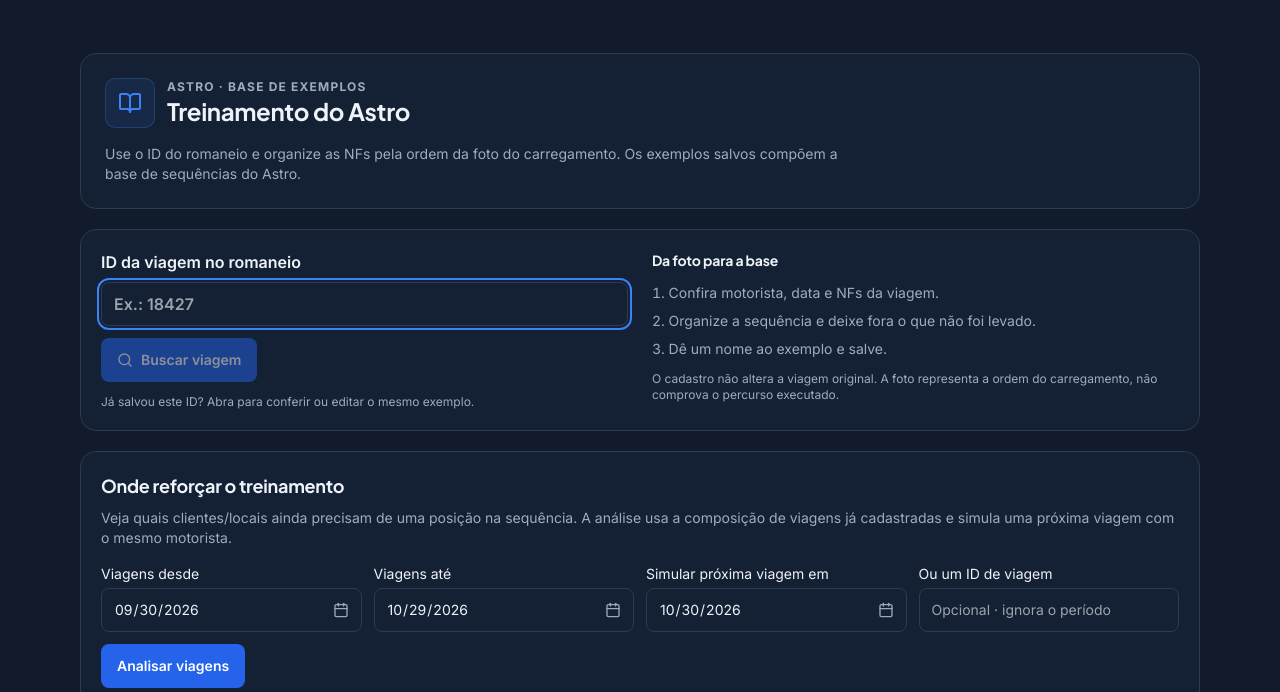
confere a sequência, mantém notas omitidas e exige confirmar a separação antes do PUT
The width and height of the screenshot is (1280, 692).
Type "128" into the field labelled "ID da viagem" at point(364, 304), box [101,282,628,326]
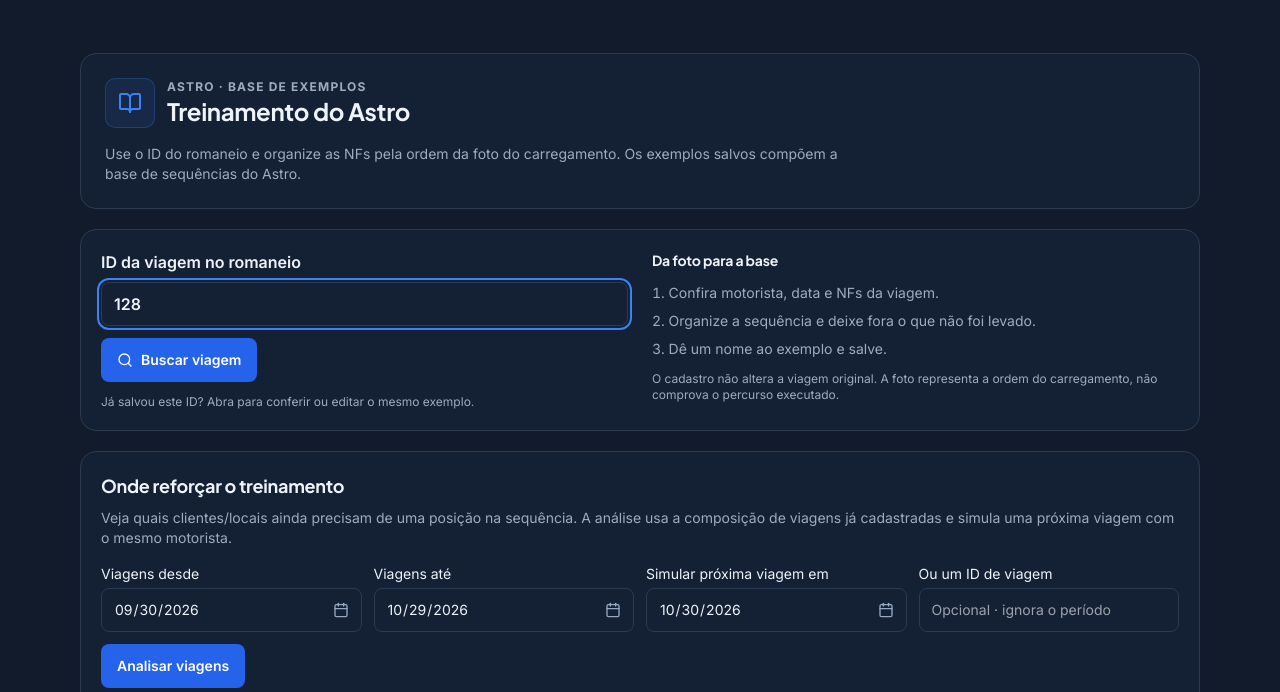
Click the button "Buscar viagem" at point(179, 360), box [101,338,258,382]
(page scrolled)
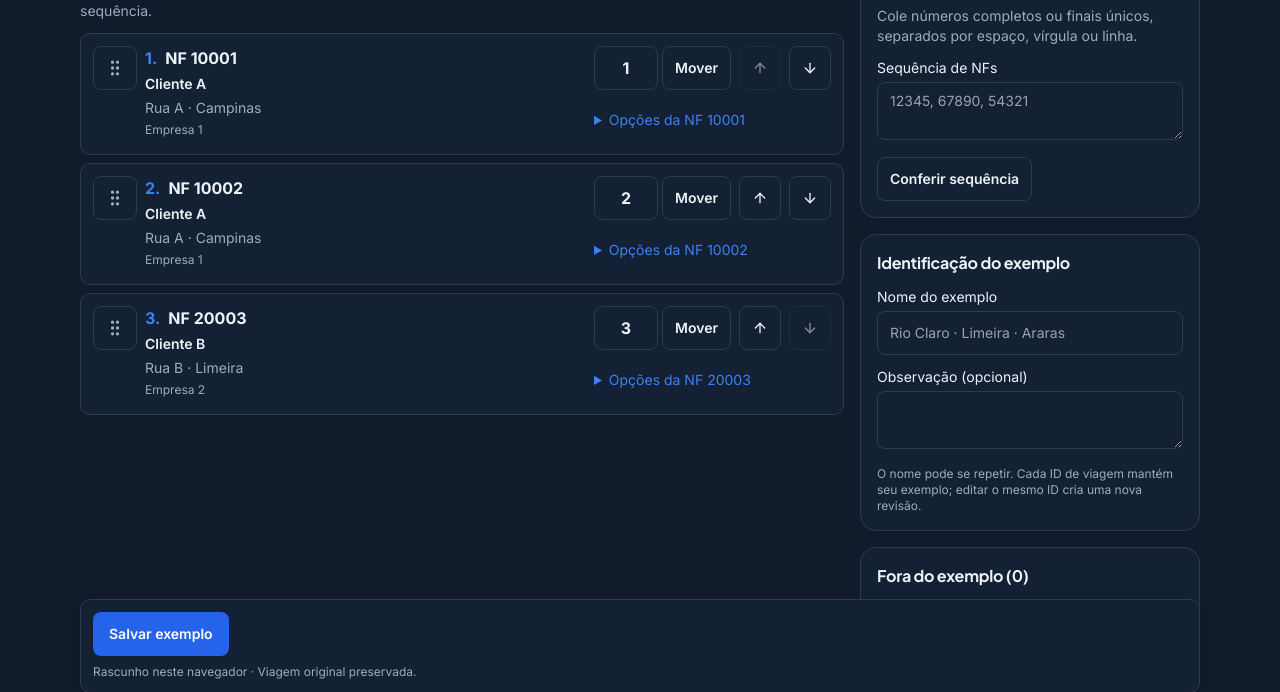
Type "Circuito de teste" into the field labelled "Nome do exemplo" at point(1030, 333), box [877,311,1183,355]
Type "001 003" into the text box labelled "Sequência de NFs" at point(1030, 111), box [877,82,1183,140]
Click the button "Conferir sequência" at point(955, 179), box [877,157,1032,201]
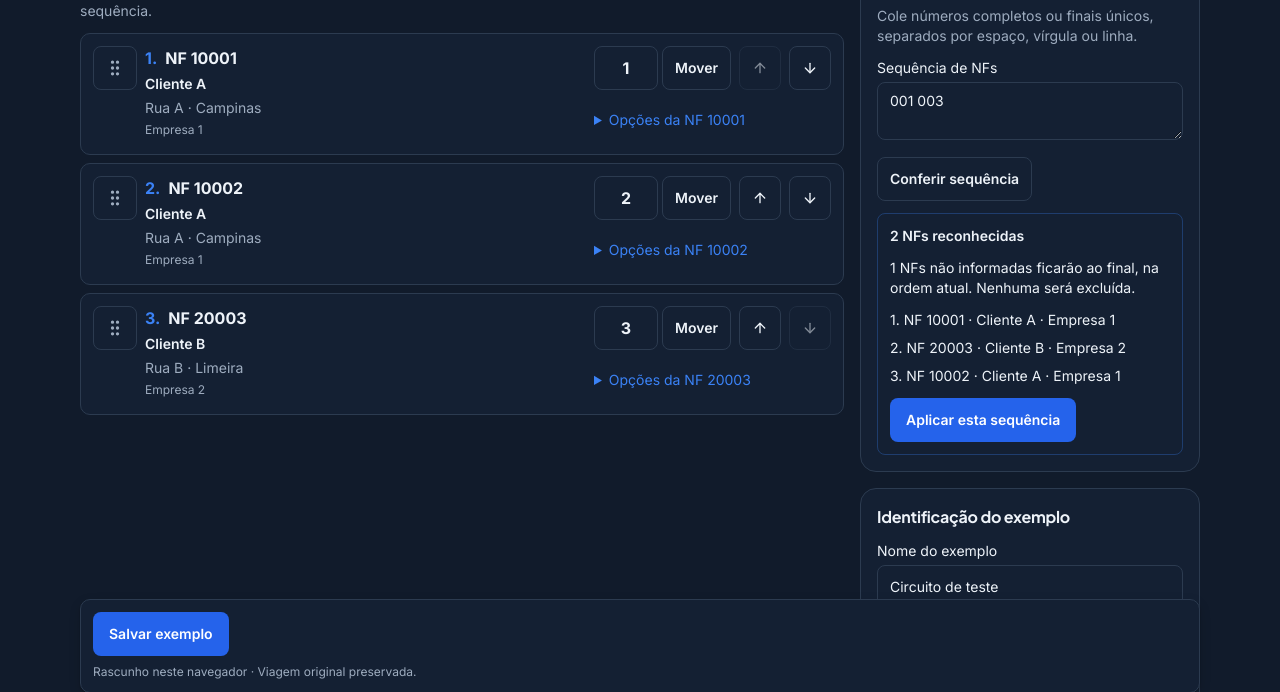
Expected: the text "1 NFs não informadas ficarão ao final" is shown, [890,259,1159,296]
Click the button "Aplicar esta sequência" at point(983, 420), box [890,398,1076,442]
(page scrolled)
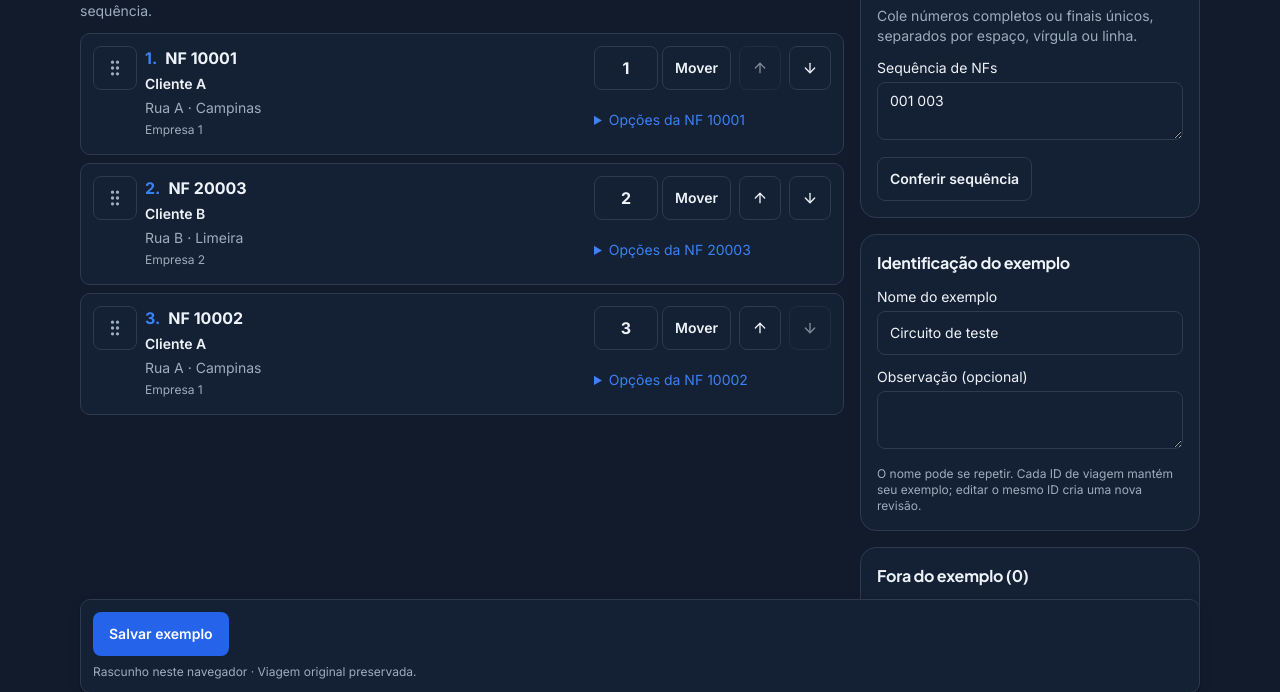
Expected: the list item that starts with "Cliente B" shows "NF 20003", [80,163,844,285]
Click the button "Salvar exemplo" at point(161, 634), box [93,612,229,656]
(page scrolled)
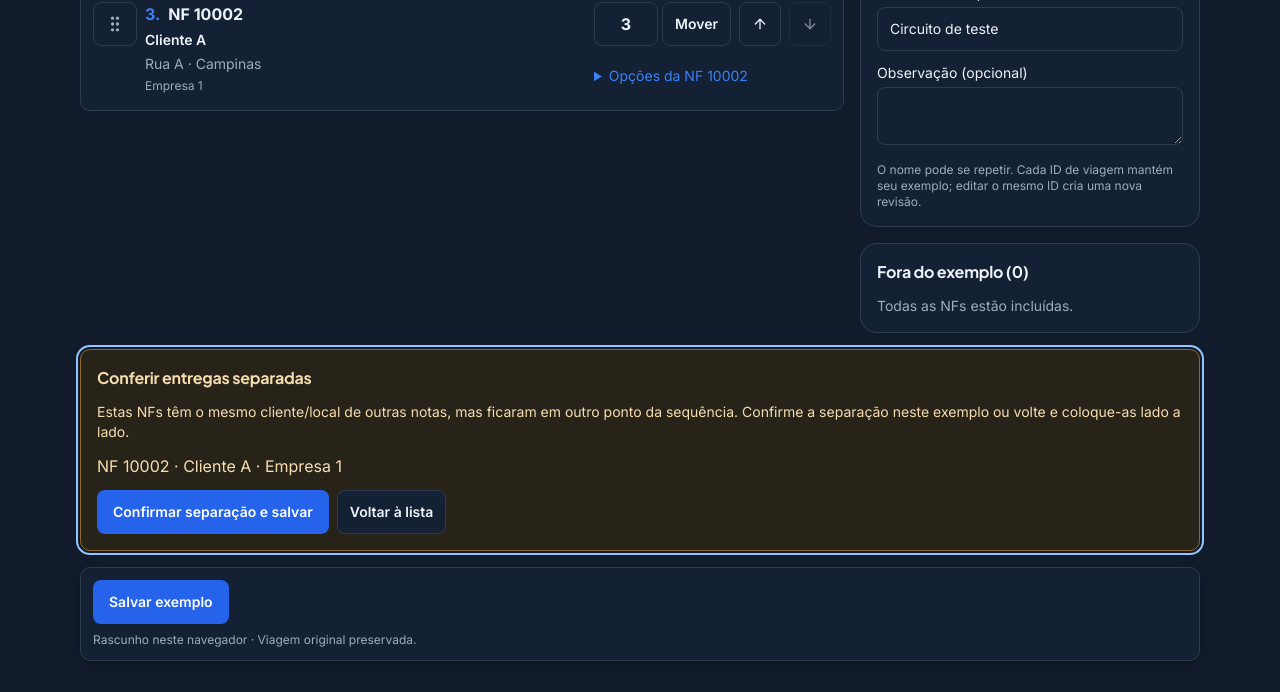
Click the button "Confirmar separação e salvar" at point(213, 512), box [97,490,329,534]
(page scrolled)
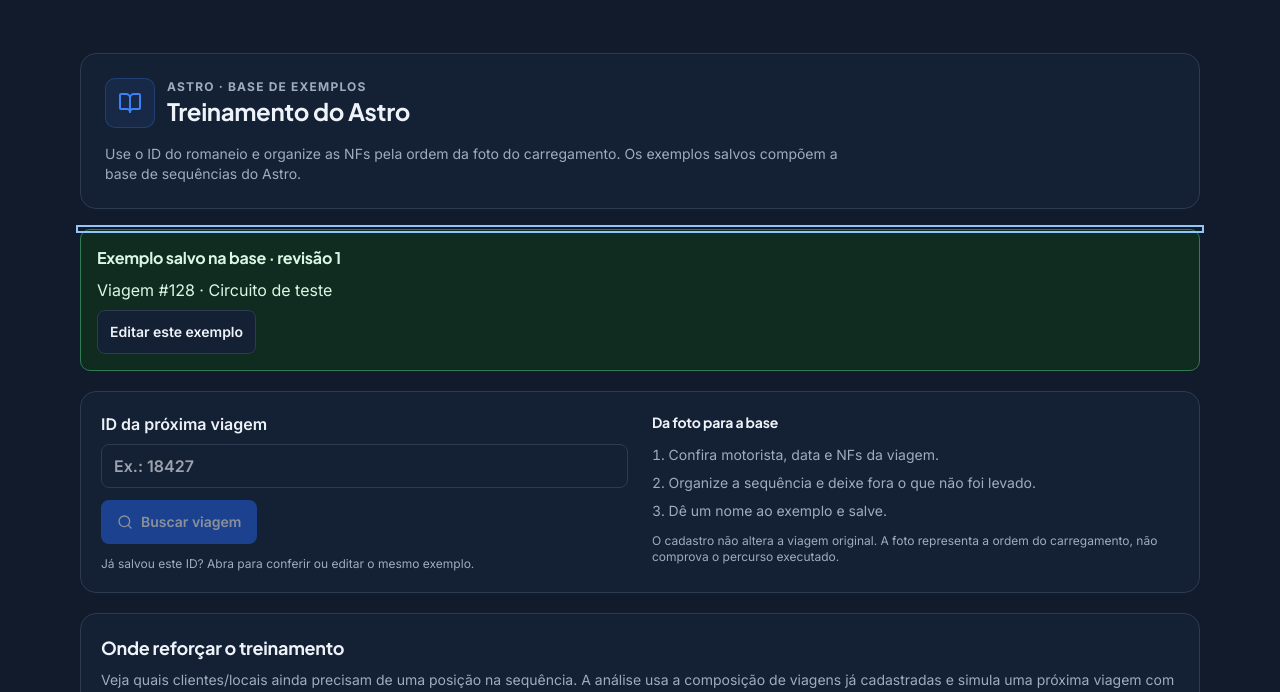
Expected: the heading "Exemplo salvo na base · revisão 1" is shown, [97,246,341,270]
